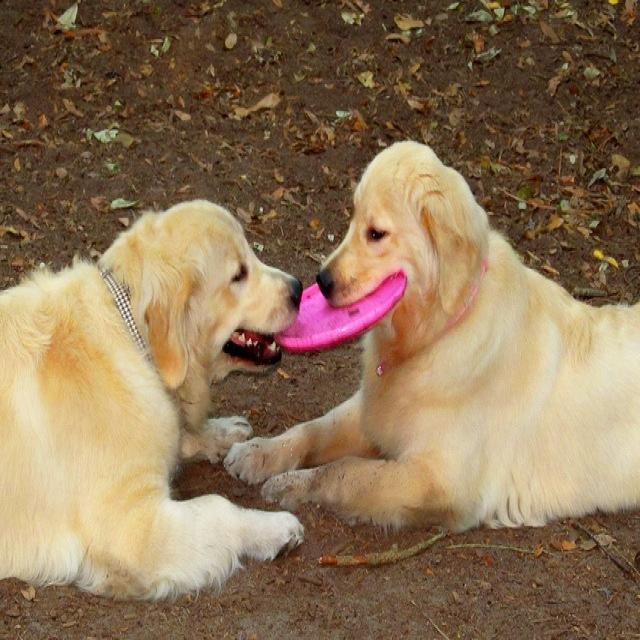dog: (216, 131, 639, 512), (0, 195, 309, 606)
